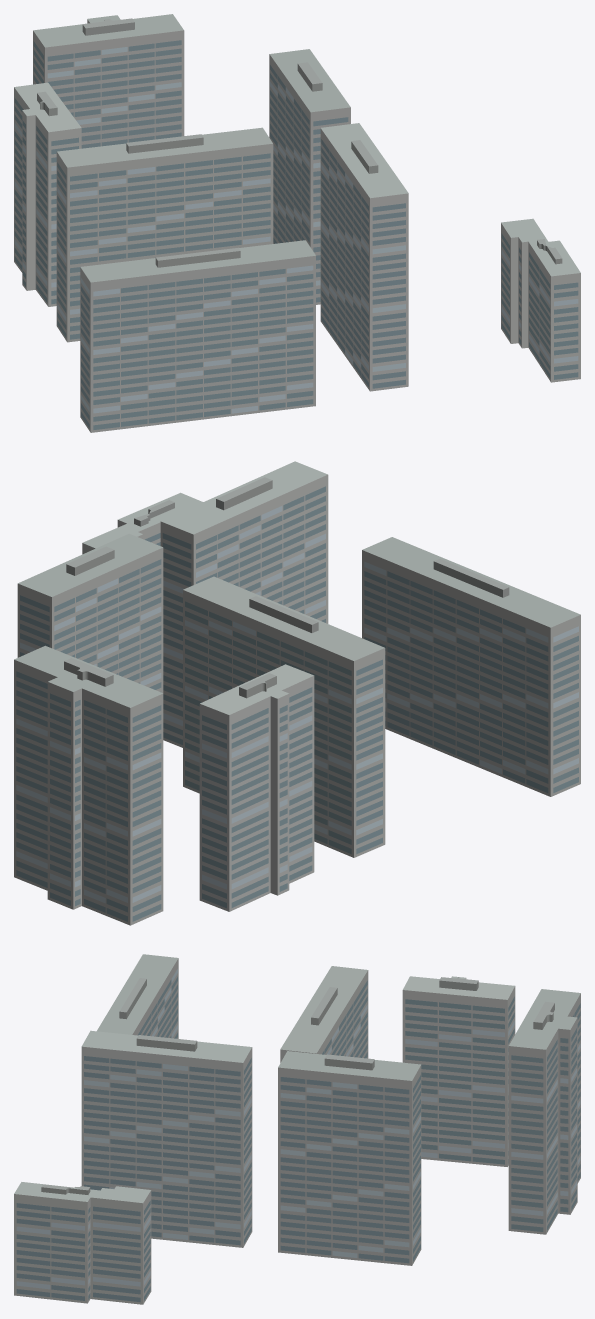
File: apt-a13981006.glb
The picture shows the model from 3 angles, top to bottom: view 1: azimuth 30°, elevation 25°; view 2: azimuth 150°, elevation 25°; view 3: azimuth 270°, elevation 25°; orthographic projection. The views are drawn at different scales.
Visible parts, largest first — view 1: apt-a13981006; view 2: apt-a13981006; view 3: apt-a13981006.
Boxes of the visible parts, x1,y1,x2,y2 form: apt-a13981006: [14, 14, 580, 432]; apt-a13981006: [14, 461, 580, 925]; apt-a13981006: [14, 954, 580, 1304].
Bounding box in the file's own units: 150 × 65 × 174.
